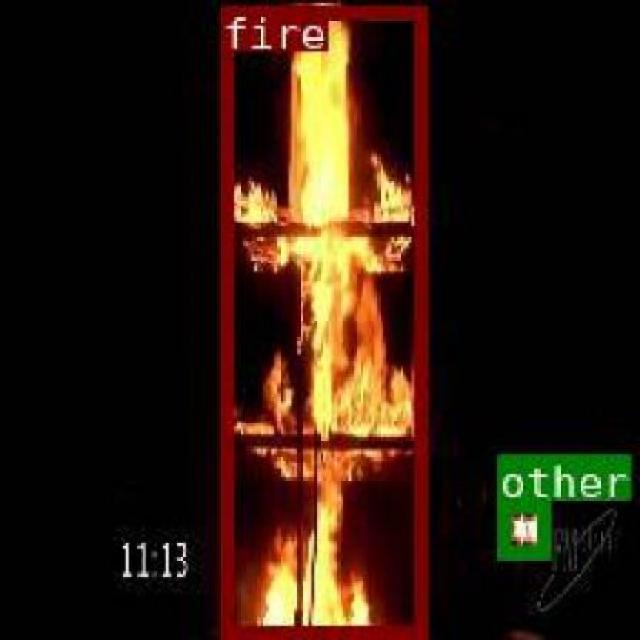Fire: (220, 4, 423, 634)
